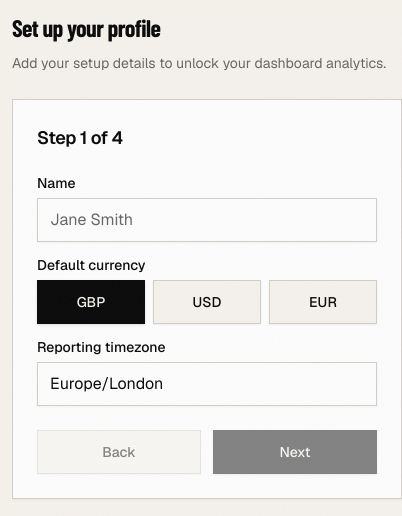
Test case: ProfileSetupFlow mobile step validation › chairRent step (step 2) › enables Next button after selecting Yes
In the field labelled "Name": (207, 220) [37,198,377,242], type "Test User"
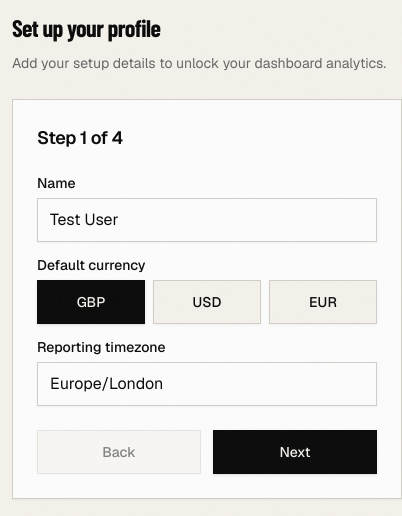
Click the button with test id "mobile-next": (295, 452) [213,430,377,474]
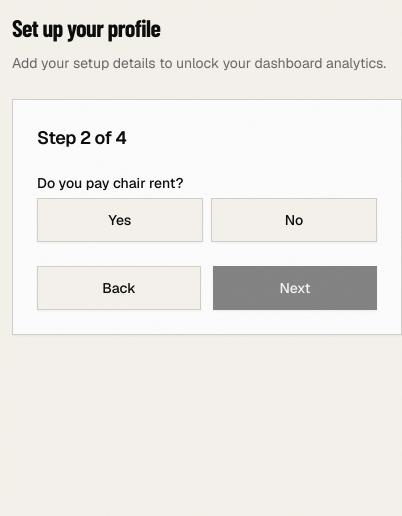
Click the button "Yes": (120, 220) [37,198,203,242]
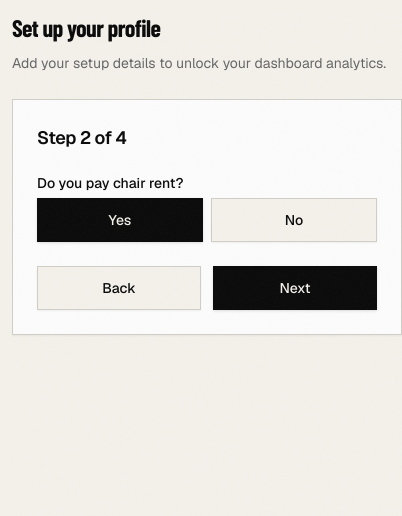
Result: the button with test id "mobile-next" is enabled at [213,266,377,310]
